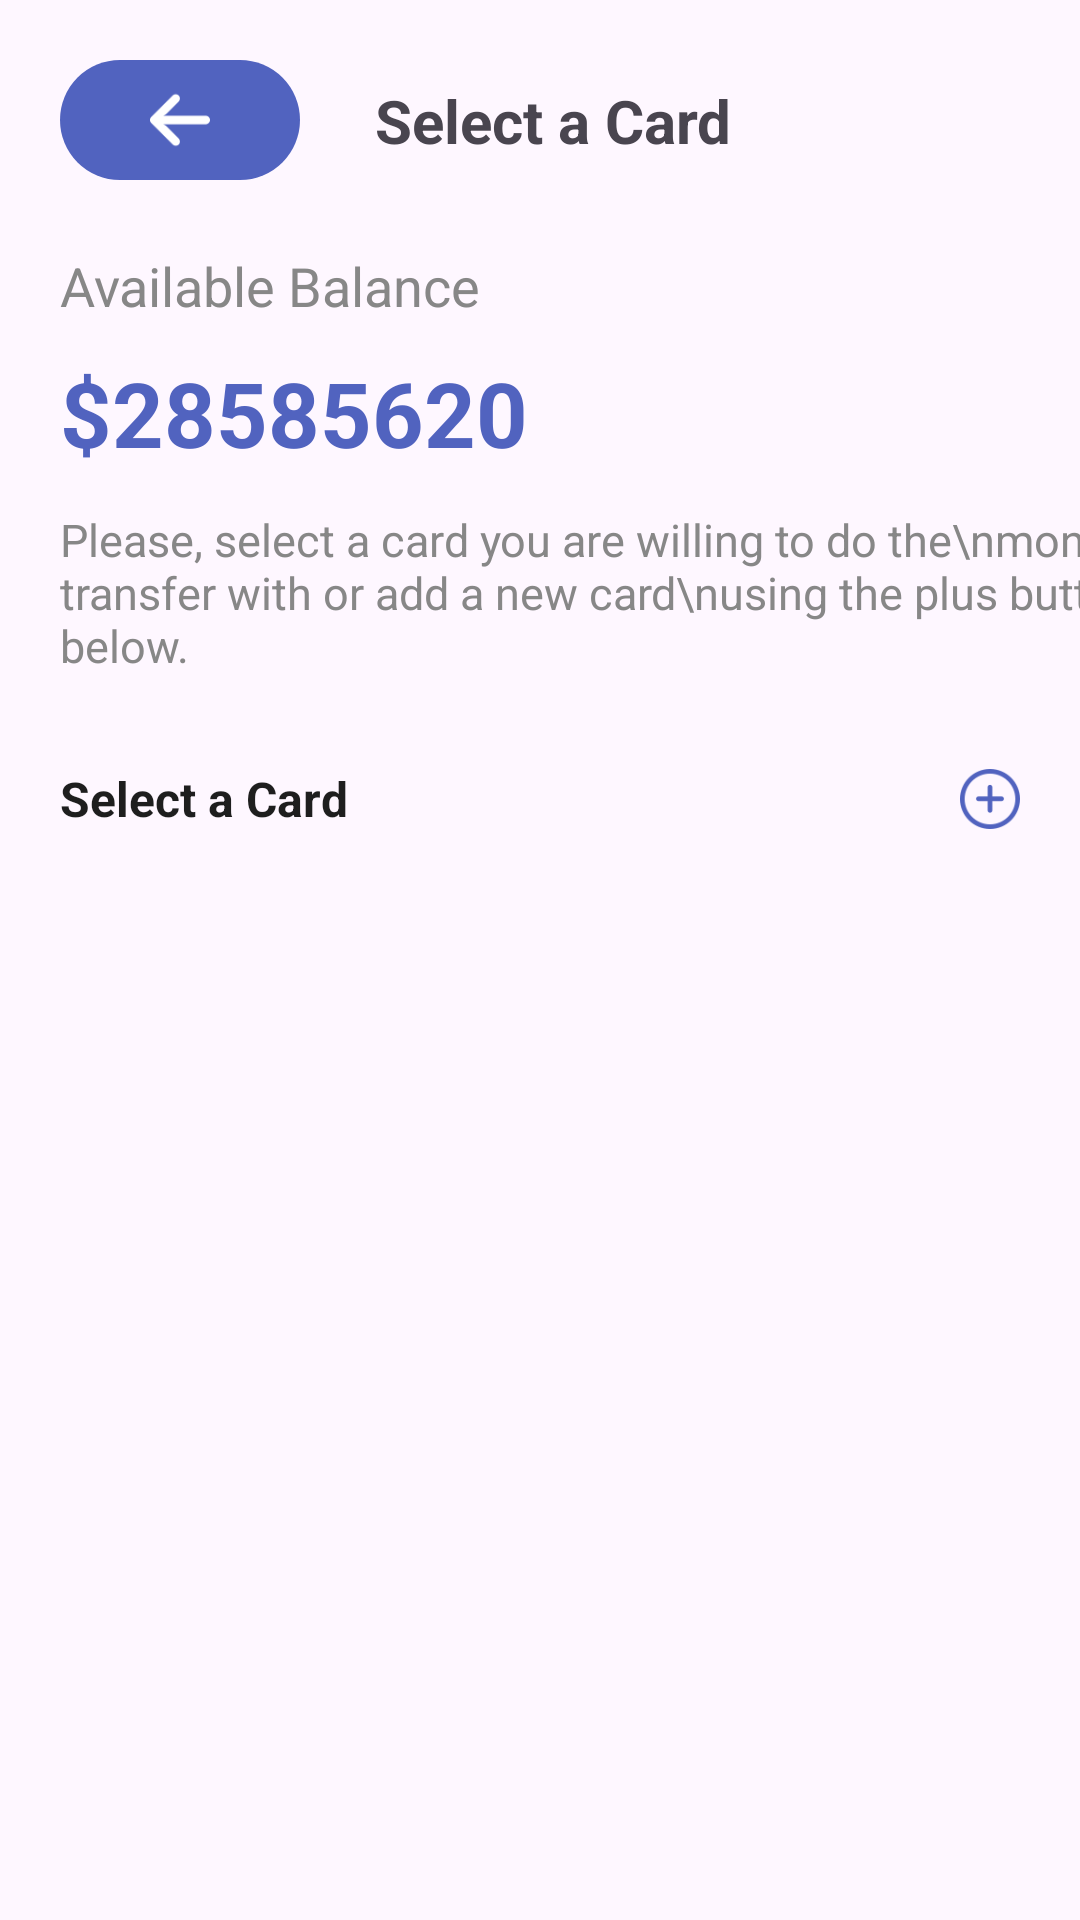

Named icons in this screenshot (1080 × 1920) and their centers, [x,y]:
back: [180,120]
